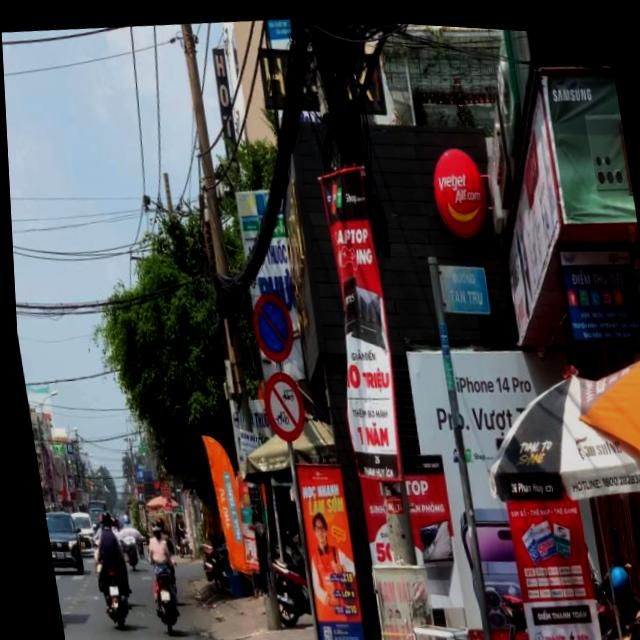Cam do xe: (243, 280, 296, 364)
